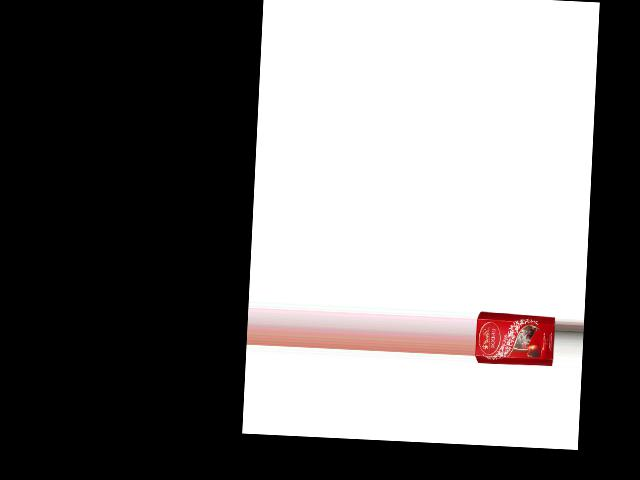chocolate: (475, 310, 556, 370)
